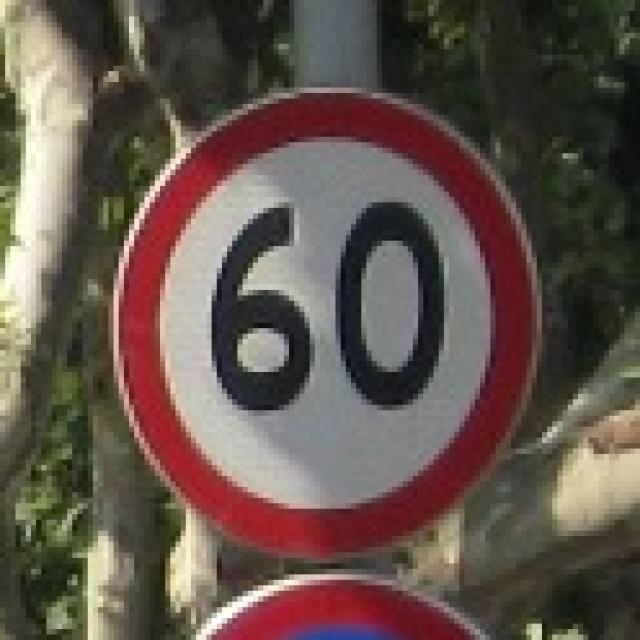Speed Limit -60-: (202, 190, 450, 418)
